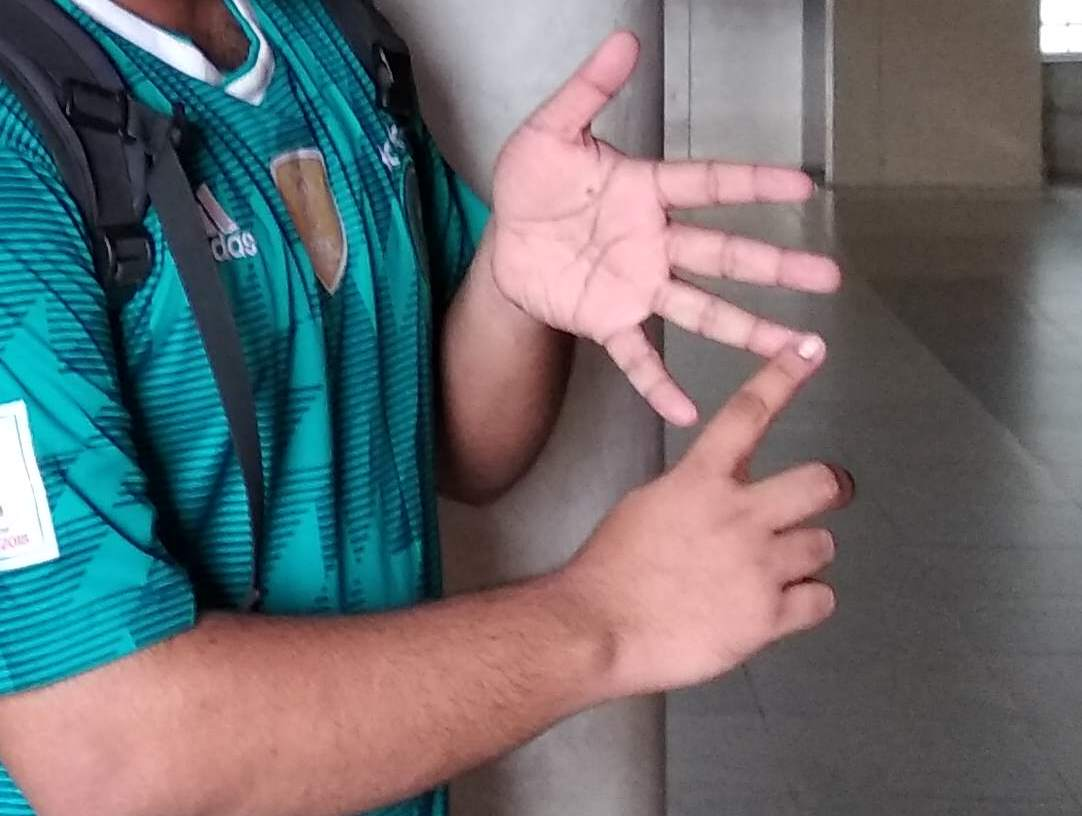e: (552, 83, 849, 682)
